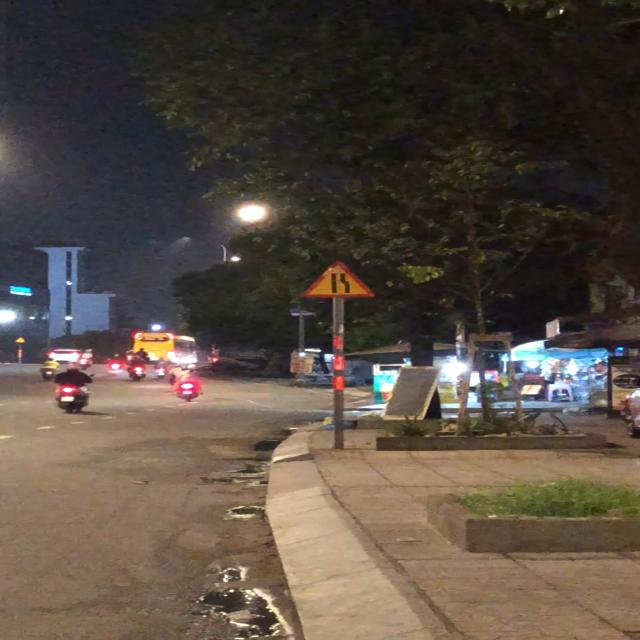Bien bao duong bi thu hep: (296, 261, 384, 299)
